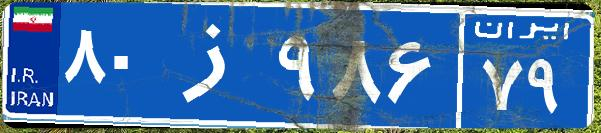0: (110, 28, 158, 105)
6: (385, 28, 445, 110)
7: (475, 38, 525, 113)
8: (330, 28, 385, 110), (57, 26, 110, 107)
9: (273, 28, 330, 110), (525, 38, 570, 115)
ز: (158, 15, 273, 115)
